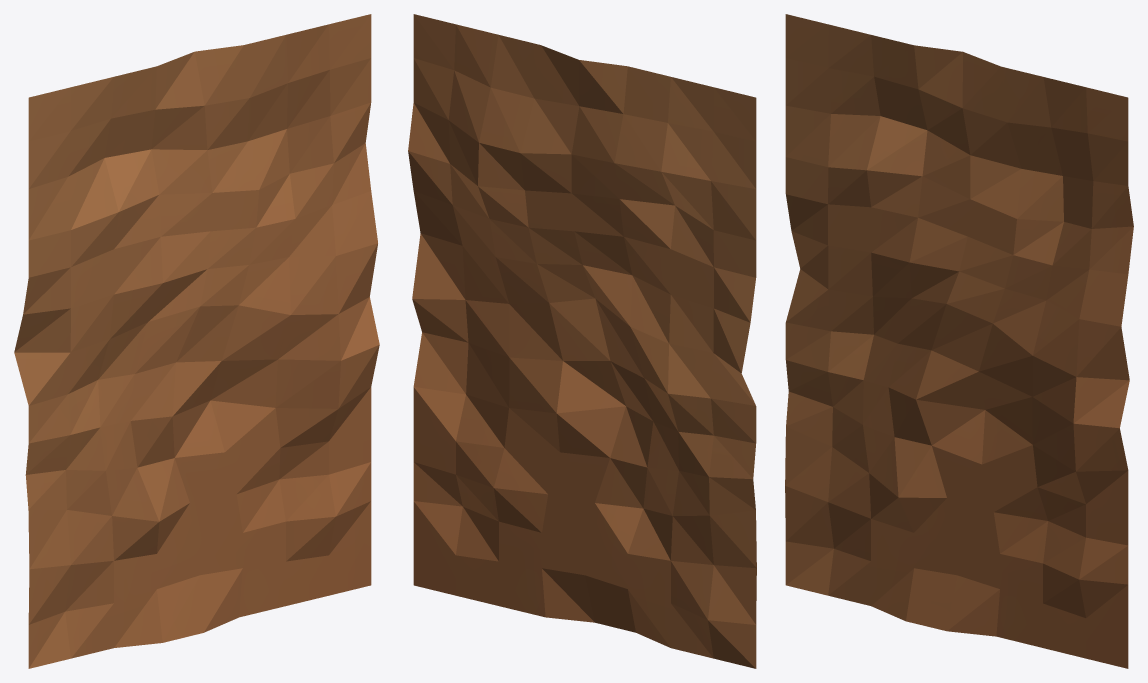
The picture shows the model from 3 angles, left to right: view 1: azimuth 30°, elevation 25°; view 2: azimuth 150°, elevation 25°; view 3: azimuth 330°, elevation 25°; orthographic projection.
Visible parts, largest first — view 1: BG_002; view 2: BG_002; view 3: BG_002.
Boxes of the visible parts, x1,y1,x2,y2 form: BG_002: (14, 14, 379, 668); BG_002: (408, 14, 756, 668); BG_002: (785, 14, 1133, 668).
Bounding box in the file's own units: 9.96 × 15.88 × 1.35.
1 material, 1 textured.
